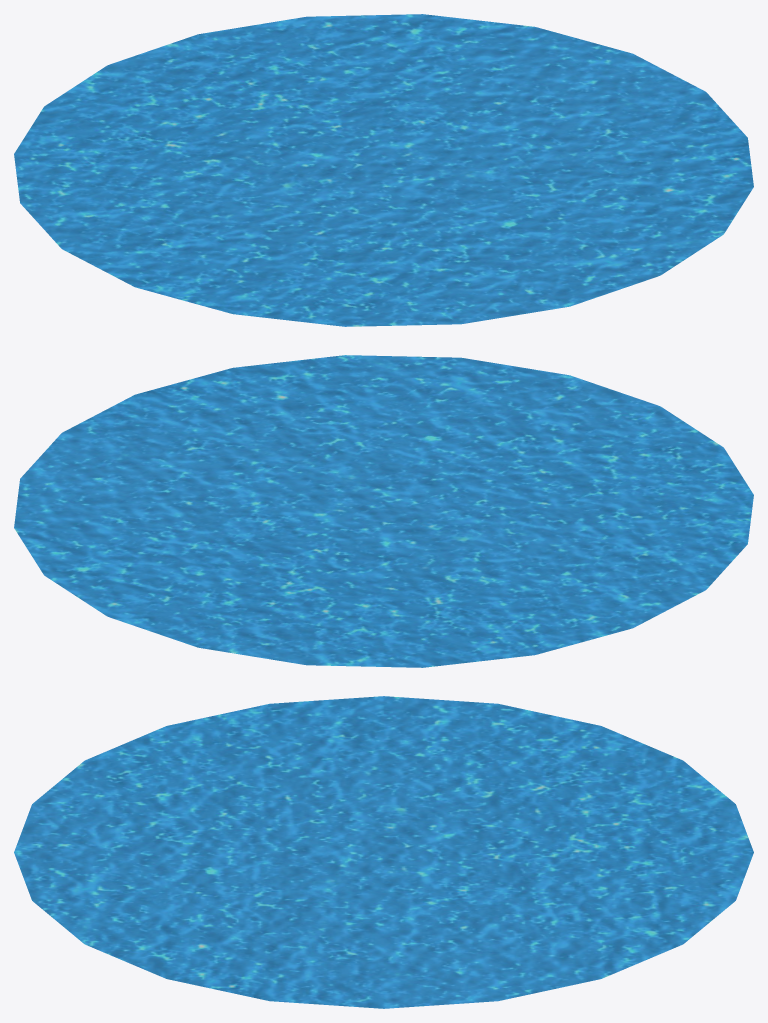
The model's file is Ocean.glb.
The picture shows the model from 3 angles, top to bottom: view 1: azimuth 30°, elevation 25°; view 2: azimuth 150°, elevation 25°; view 3: azimuth 270°, elevation 25°; orthographic projection.
Parts seen in each view (by area): view 1: Circle; view 2: Circle; view 3: Circle.
Part boxes in pixels (x1,y1,x2,y2): Circle: (14, 14, 753, 326); Circle: (14, 355, 753, 667); Circle: (14, 696, 753, 1008).
Bounding box in the file's own units: 2 × 0 × 2.
Materials: 1 (1 with a texture image).
